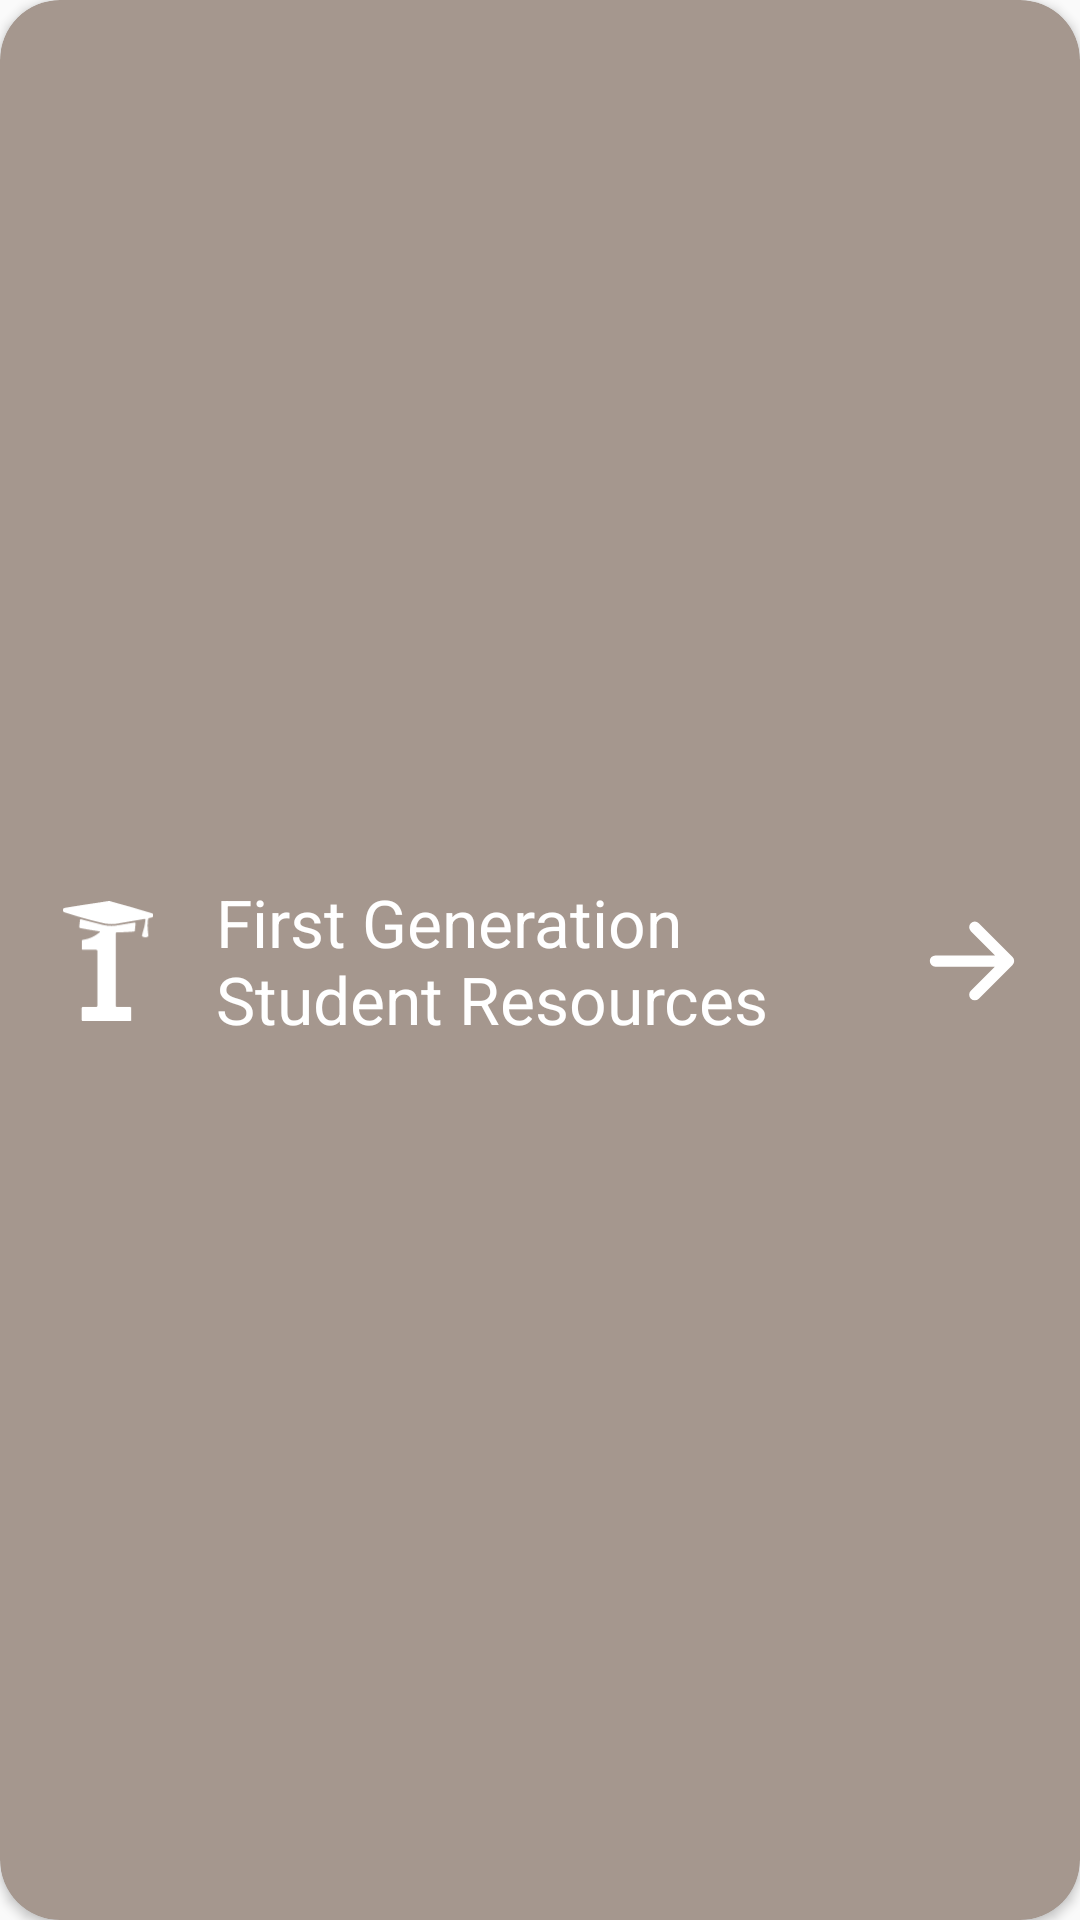

Locate icon controls on the screen. Image size 1080 × 1920, boxes as (x1, y1, x2, y2).
arrow forward: (930, 921, 1014, 1000)
